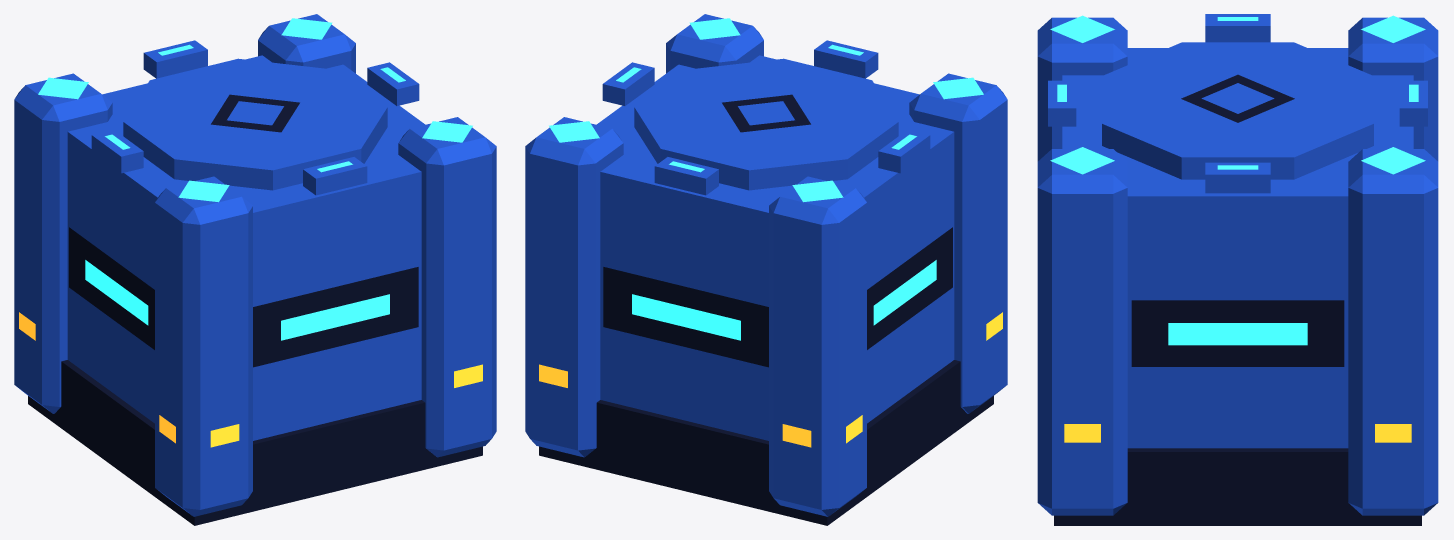
File: platform_tile_v1_detailed.glb
The picture shows the model from 3 angles, left to right: view 1: azimuth 30°, elevation 25°; view 2: azimuth 150°, elevation 25°; view 3: azimuth 270°, elevation 25°; orthographic projection. The views are drawn at different scales.
Visible parts, largest first — view 1: Tile_Blue, Tile_Navy, Tile_Cyan, Tile_Orange; view 2: Tile_Blue, Tile_Navy, Tile_Cyan, Tile_Orange; view 3: Tile_Blue, Tile_Navy, Tile_Cyan, Tile_Orange.
Boxes of the visible parts, x1,y1,x2,y2 form: Tile_Blue: (14, 14, 496, 516); Tile_Navy: (28, 94, 482, 525); Tile_Cyan: (38, 18, 472, 340); Tile_Orange: (19, 312, 482, 447); Tile_Blue: (525, 14, 1007, 516); Tile_Navy: (539, 94, 993, 525); Tile_Cyan: (549, 18, 983, 340); Tile_Orange: (539, 312, 1002, 447); Tile_Blue: (1037, 14, 1438, 515); Tile_Navy: (1054, 74, 1421, 525); Tile_Cyan: (1050, 15, 1425, 345); Tile_Orange: (1064, 424, 1411, 442).
Bounding box in the file's own units: 0.986 × 0.958 × 0.986.
